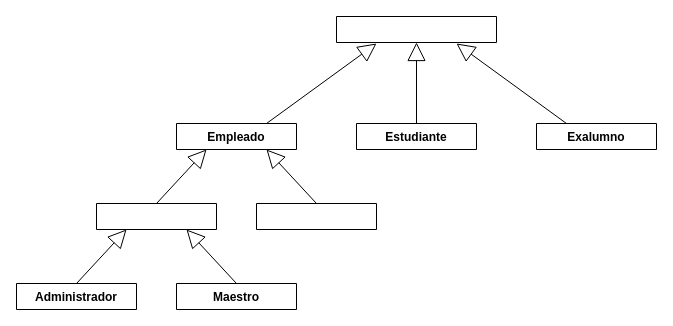
Image size: 673x326. Some labels were removed from this diagram. Here are the shapes that lost their labels. From the top down, the centre of each, then its label:
At (x=416, y=29): "MiembroDeLaComunidad".
At (x=156, y=216): "Docente".
At (x=316, y=216): "Administrativo".
